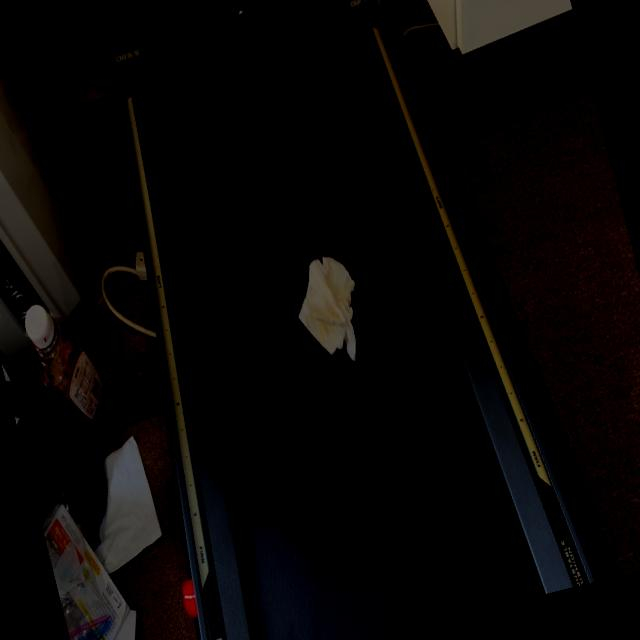Recycle: (284, 248, 374, 372)
